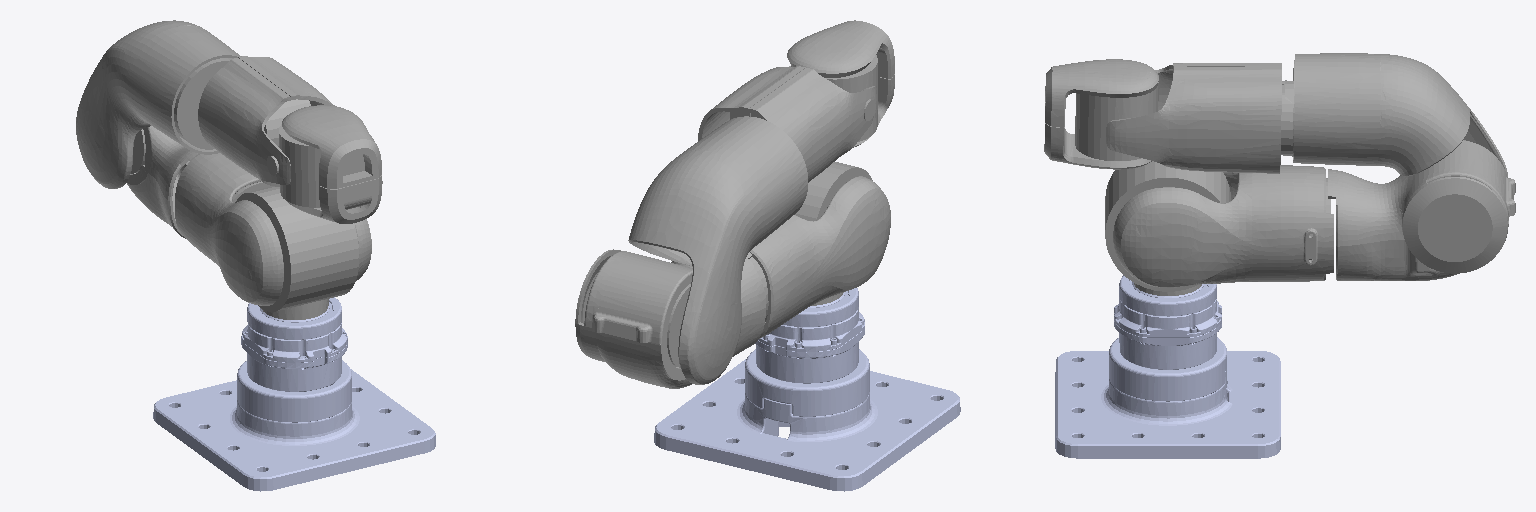
The robot description file, URDF, robot "R1_Robotic_Arm":
<?xml version="1.0" encoding="utf-8"?>
<!-- This URDF was automatically created by SolidWorks to URDF Exporter! Originally created by Stephen Brawner (brawner@gmail.com) 
     Commit Version: 1.6.0-4-g7f85cfe  Build Version: 1.6.7995.38578
     For more information, please see http://wiki.ros.org/sw_urdf_exporter -->
<robot
  name="R1_Robotic_Arm">
  <link
    name="base_link">
    <inertial>
      <origin
        xyz="-0.00010643 0.0010041 0.023203"
        rpy="0 0 0" />
      <mass
        value="1.7759" />
      <inertia
        ixx="0.0014112"
        ixy="1.7968E-06"
        ixz="1.2255E-06"
        iyy="0.001783"
        iyz="-8.2296E-06"
        izz="0.0025584" />
    </inertial>
    <visual>
      <origin
        xyz="0 0 0"
        rpy="0 0 0" />
      <geometry>
        <mesh
          filename="meshes/base_link.STL" />
      </geometry>
      <material
        name="">
        <color
          rgba="0.79216 0.81961 0.93333 1" />
      </material>
    </visual>
    <collision>
      <origin
        xyz="0 0 0"
        rpy="0 0 0" />
      <geometry>
        <mesh
          filename="meshes/base_link.STL" />
      </geometry>
    </collision>
  </link>
  <link
    name="Link1">
    <inertial>
      <origin
        xyz="2.156E-08 -9.6233E-09 0.045314"
        rpy="0 0 0" />
      <mass
        value="0.89452" />
      <inertia
        ixx="0.00082526"
        ixy="1.1484E-09"
        ixz="-7.1331E-10"
        iyy="0.0006531"
        iyz="5.9698E-10"
        izz="0.00059909" />
    </inertial>
    <visual>
      <origin
        xyz="0 0 0"
        rpy="0 0 0" />
      <geometry>
        <mesh
          filename="meshes/Link1.STL" />
      </geometry>
      <material
        name="">
        <color
          rgba="0.69804 0.69804 0.69804 1" />
      </material>
    </visual>
    <collision>
      <origin
        xyz="0 0 0"
        rpy="0 0 0" />
      <geometry>
        <mesh
          filename="meshes/Link1.STL" />
      </geometry>
    </collision>
  </link>
  <joint
    name="J1"
    type="revolute">
    <origin
      xyz="0 0 0.069"
      rpy="0 0 0" />
    <parent
      link="base_link" />
    <child
      link="Link1" />
    <axis
      xyz="0 0 -1" />
    <limit
      lower="-2.723"
      upper="2.723"
      effort="60"
      velocity="18.7" />
  </joint>
  <link
    name="Link2">
    <inertial>
      <origin
        xyz="0.0017013 0.063321 -0.0042531"
        rpy="0 0 0" />
      <mass
        value="0.74773" />
      <inertia
        ixx="0.001137"
        ixy="9.3E-05"
        ixz="-6E-06"
        iyy="0.000672"
        iyz="3.2E-05"
        izz="0.001314" />
    </inertial>
    <visual>
      <origin
        xyz="0 0 0"
        rpy="0 0 0" />
      <geometry>
        <mesh
          filename="meshes/Link2.STL" />
      </geometry>
      <material
        name="">
        <color
          rgba="0.69804 0.69804 0.69804 1" />
      </material>
    </visual>
    <collision>
      <origin
        xyz="0 0 0"
        rpy="0 0 0" />
      <geometry>
        <mesh
          filename="meshes/Link2.STL" />
      </geometry>
    </collision>
  </link>
  <joint
    name="J2"
    type="revolute">
    <origin
      xyz="0 0 0.0469"
      rpy="0 0 0" />
    <parent
      link="Link1" />
    <child
      link="Link2" />
    <axis
      xyz="1 0 0" />
    <limit
      lower="0"
      upper="3.1416"
      effort="60"
      velocity="18.7" />
  </joint>
  <link
    name="Link3">
    <inertial>
      <origin
        xyz="-0.0062069 0.075751 0.012556"
        rpy="0 0 0" />
      <mass
        value="0.71845" />
      <inertia
        ixx="0.000746"
        ixy="2.9E-05"
        ixz="1.3E-05"
        iyy="0.000558"
        iyz="-0.000086"
        izz="0.000728" />
    </inertial>
    <visual>
      <origin
        xyz="0 0 0"
        rpy="0 0 0" />
      <geometry>
        <mesh
          filename="meshes/Link3.STL" />
      </geometry>
      <material
        name="">
        <color
          rgba="0.69804 0.69804 0.69804 1" />
      </material>
    </visual>
    <collision>
      <origin
        xyz="0 0 0"
        rpy="0 0 0" />
      <geometry>
        <mesh
          filename="meshes/Link3.STL" />
      </geometry>
    </collision>
  </link>
  <joint
    name="J3"
    type="revolute">
    <origin
      xyz="0 0.1085 -0.0047926"
      rpy="0 0 0" />
    <parent
      link="Link2" />
    <child
      link="Link3" />
    <axis
      xyz="0 1 0" />
    <limit
      lower="-0.349"
      upper="3.491"
      effort="33"
      velocity="33.4" />
  </joint>
  <link
    name="Link4">
    <inertial>
      <origin
        xyz="-0.020915 -0.070455 0.060056"
        rpy="0 0 0" />
      <mass
        value="0.85572" />
      <inertia
        ixx="0.001009"
        ixy="-8.4E-05"
        ixz="6.3E-05"
        iyy="0.000707"
        iyz="0.000139"
        izz="0.00093" />
    </inertial>
    <visual>
      <origin
        xyz="0 0 0"
        rpy="0 0 0" />
      <geometry>
        <mesh
          filename="meshes/Link4.STL" />
      </geometry>
      <material
        name="">
        <color
          rgba="0.69804 0.69804 0.69804 1" />
      </material>
    </visual>
    <collision>
      <origin
        xyz="0 0 0"
        rpy="0 0 0" />
      <geometry>
        <mesh
          filename="meshes/Link4.STL" />
      </geometry>
    </collision>
  </link>
  <joint
    name="J4"
    type="revolute">
    <origin
      xyz="0.025 0.082408 0.016191"
      rpy="0 0 0" />
    <parent
      link="Link3" />
    <child
      link="Link4" />
    <axis
      xyz="-1 0 0" />
    <limit
      lower="0"
      upper="3.1415"
      effort="33"
      velocity="33.4" />
  </joint>
  <link
    name="Link5">
    <inertial>
      <origin
        xyz="0.00042498 -0.043121 0.00020709"
        rpy="0 0 0" />
      <mass
        value="0.59294" />
      <inertia
        ixx="0.000506"
        ixy="2E-06"
        ixz="-1E-06"
        iyy="0.000349"
        iyz="-1E-06"
        izz="0.000501" />
    </inertial>
    <visual>
      <origin
        xyz="0 0 0"
        rpy="0 0 0" />
      <geometry>
        <mesh
          filename="meshes/Link5.STL" />
      </geometry>
      <material
        name="">
        <color
          rgba="0.69804 0.69804 0.69804 1" />
      </material>
    </visual>
    <collision>
      <origin
        xyz="0 0 0"
        rpy="0 0 0" />
      <geometry>
        <mesh
          filename="meshes/Link5.STL" />
      </geometry>
    </collision>
  </link>
  <joint
    name="J5"
    type="revolute">
    <origin
      xyz="-0.022314 -0.10786 0.062877"
      rpy="-0.017453 0 0" />
    <parent
      link="Link4" />
    <child
      link="Link5" />
    <axis
      xyz="0 1 0" />
    <limit
      lower="-2.269"
      upper="2.269"
      effort="33"
      velocity="33.4" />
  </joint>
  <link
    name="Link6">
    <inertial>
      <origin
        xyz="-1.3033E-07 -0.0098039 8.3267E-17"
        rpy="0 0 0" />
      <mass
        value="0.391" />
      <inertia
        ixx="0.00014242"
        ixy="0"
        ixz="0"
        iyy="0.00014737"
        iyz="0"
        izz="0.00015188" />
    </inertial>
    <visual>
      <origin
        xyz="0 0 0"
        rpy="0 0 0" />
      <geometry>
        <mesh
          filename="meshes/Link6.STL" />
      </geometry>
      <material
        name="">
        <color
          rgba="0.69804 0.69804 0.69804 1" />
      </material>
    </visual>
    <collision>
      <origin
        xyz="0 0 0"
        rpy="0 0 0" />
      <geometry>
        <mesh
          filename="meshes/Link6.STL" />
      </geometry>
    </collision>
  </link>
  <joint
    name="J6"
    type="revolute">
    <origin
      xyz="-1.1462E-05 -0.1072 0.00069991"
      rpy="0 -0.016375 0" />
    <parent
      link="Link5" />
    <child
      link="Link6" />
    <axis
      xyz="-1 0 0" />
    <limit
      lower="-0.785"
      upper="0.785"
      effort="10"
      velocity="37.7" />
  </joint>
  <link
    name="Link7">
    <inertial>
      <origin
        xyz="-3.7143E-07 -0.018577 0.00595"
        rpy="0 0 0" />
      <mass
        value="0.1048" />
      <inertia
        ixx="0.000105"
        ixy="0"
        ixz="0"
        iyy="7.3E-05"
        iyz="0"
        izz="6.7E-05" />
    </inertial>
    <visual>
      <origin
        xyz="0 0 0"
        rpy="0 0 0" />
      <geometry>
        <mesh
          filename="meshes/Link7.STL" />
      </geometry>
      <material
        name="">
        <color
          rgba="0.69804 0.69804 0.69804 1" />
      </material>
    </visual>
    <collision>
      <origin
        xyz="0 0 0"
        rpy="0 0 0" />
      <geometry>
        <mesh
          filename="meshes/Link7.STL" />
      </geometry>
    </collision>
  </link>
  <joint
    name="J7"
    type="revolute">
    <origin
      xyz="0 -0.01 0"
      rpy="-3.1416 0 -3.1416" />
    <parent
      link="Link6" />
    <child
      link="Link7" />
    <axis
      xyz="0 0 -1" />
    <limit
      lower="-1.571"
      upper="1.571"
      effort="10"
      velocity="37.7" />
  </joint>
</robot>

--- Render facts (derived) ---
3 views of the same robot in one strip: view 1: azimuth 30°, elevation 25°; view 2: azimuth 150°, elevation 25°; view 3: azimuth 270°, elevation 25° (orthographic).
Robot: R1_Robotic_Arm — 8 links, 7 joints (7 revolute); root link base_link; default pose: every joint at zero.
Visible links, largest first — view 1: base_link, Link4, Link2, Link5, Link1, Link7, Link3, Link6; view 2: base_link, Link4, Link3, Link2, Link5, Link7, Link1, Link6; view 3: base_link, Link2, Link3, Link4, Link5, Link7, Link1, Link6.
Link boxes in pixels (bbox=[...]): base_link: bbox=[153, 297, 435, 491]; Link4: bbox=[76, 20, 241, 188]; Link2: bbox=[175, 153, 371, 305]; Link5: bbox=[198, 56, 334, 186]; Link1: bbox=[235, 186, 358, 319]; Link7: bbox=[282, 105, 382, 223]; Link3: bbox=[127, 126, 199, 238]; Link6: bbox=[267, 124, 320, 207]; base_link: bbox=[654, 288, 960, 491]; Link4: bbox=[628, 116, 807, 384]; Link3: bbox=[575, 249, 765, 388]; Link2: bbox=[671, 176, 890, 338]; Link5: bbox=[698, 66, 876, 182]; Link7: bbox=[787, 20, 894, 147]; Link1: bbox=[795, 162, 872, 305]; Link6: bbox=[791, 55, 877, 141]; base_link: bbox=[1055, 275, 1280, 458]; Link2: bbox=[1113, 165, 1333, 287]; Link3: bbox=[1328, 140, 1515, 280]; Link4: bbox=[1292, 53, 1507, 176]; Link5: bbox=[1106, 63, 1293, 173]; Link7: bbox=[1044, 59, 1158, 169]; Link1: bbox=[1105, 161, 1230, 295]; Link6: bbox=[1075, 82, 1158, 160].
Size in the robot's own frame: 0.15 by 0.3133 by 0.2527 metres.
Meshes: 8 distinct files referenced, 8 mesh visuals loaded (8 binary STL).
